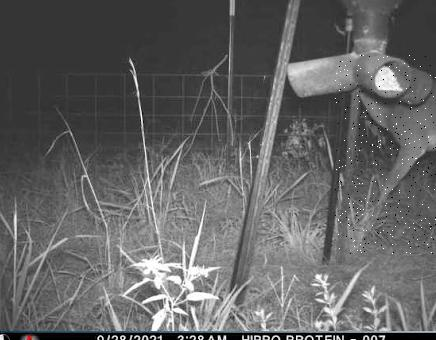Deer: (335, 55, 436, 254)
